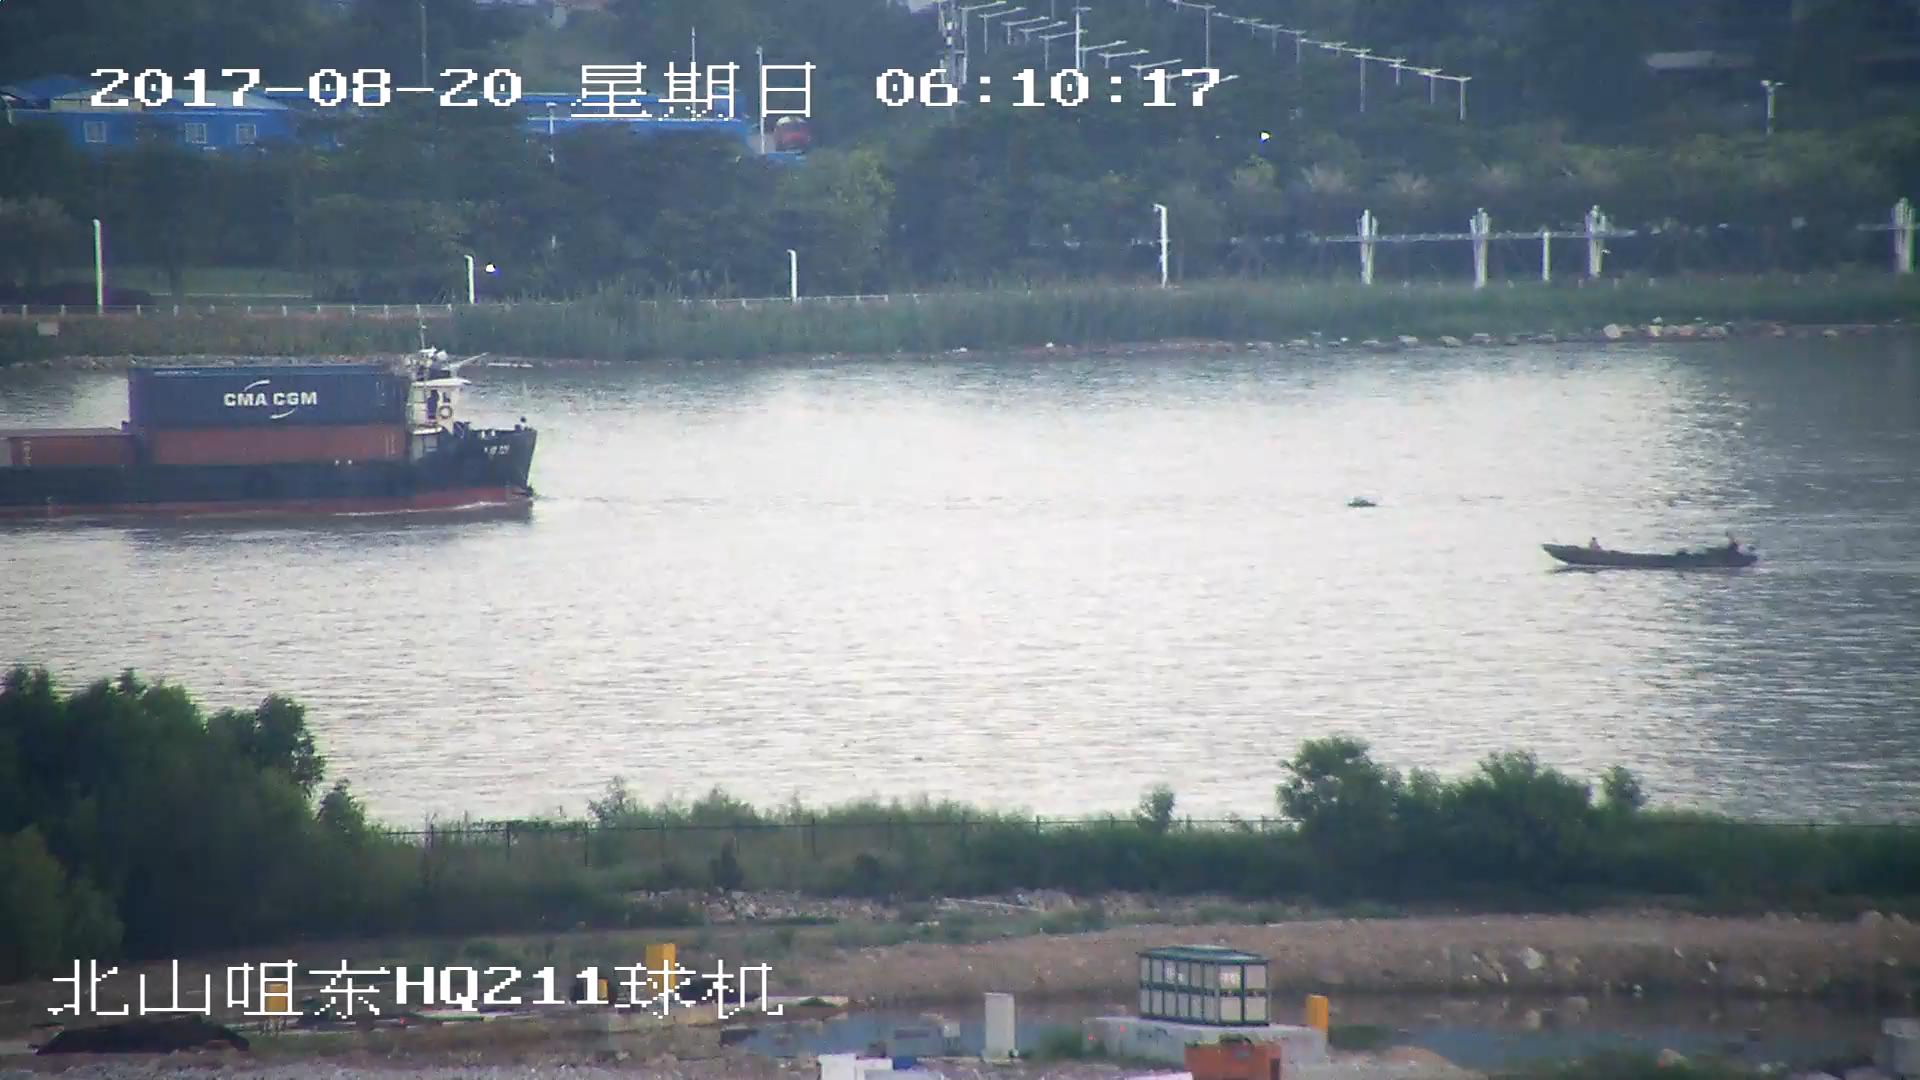container ship: (1, 350, 553, 523)
fishing boat: (1545, 529, 1750, 573)
